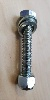FinishedAssembly: (14, 8, 43, 92)
